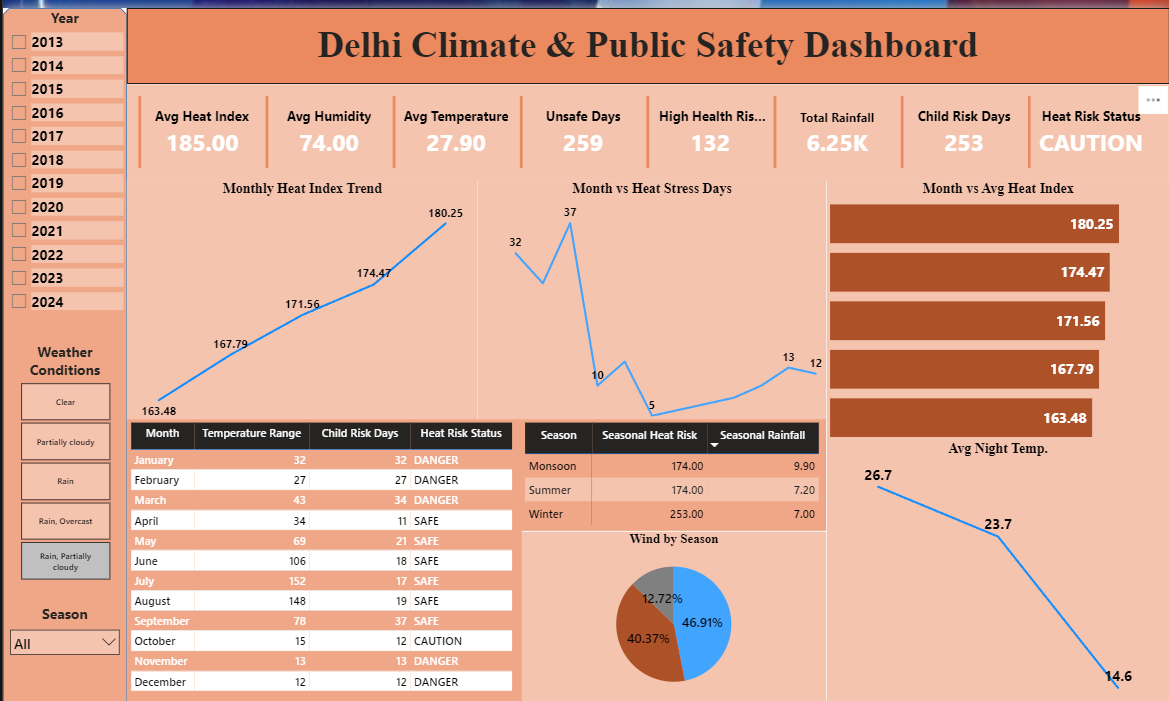

What the dashboard file says about the page in this screenshot:
{"tool":"powerbi","page":{"name":"Page 1","canvas":[1680,1000],"ordinal":0},"visuals":[{"type":"cardVisual","fields":{"Data":["delhi_weather weather.Avg Heat Index","delhi_weather weather.Avg Humidity","delhi_weather weather.Avg Temperature","delhi_weather weather.Unsafe Days","delhi_weather weather.High Health Risk Days","delhi_weather weather.Total Rainfall","delhi_weather weather.Child Risk Days","delhi_weather weather.Heat Risk Status"]},"box":[178.6,109.1,1501.8,138.9],"z":0},{"type":"shape","box":[0,0,178.6,999.9],"z":1000},{"type":"lineChart","title":"Month vs Heat Stress Days","fields":{"Y":["delhi_weather weather.Heat Stress Days"],"Category":["delhi_weather weather.month"]},"box":[684.5,248,501.9,345.2],"z":2000},{"type":"barChart","title":"Month vs Avg Heat Index","fields":{"Category":["delhi_weather weather.month"],"Y":["delhi_weather weather.Monthly Heat Index"]},"box":[1186.4,248,494,375],"z":3000},{"type":"slicer","title":"Year","fields":{"Values":["delhi_weather weather.year"]},"box":[0,0,178.6,448.4],"z":4000},{"type":"lineChart","title":"Monthly Heat Index Trend","fields":{"Y":["delhi_weather weather.Monthly Heat Index"],"Category":["delhi_weather weather.DATE.Variation.Date Hierarchy.Month"]},"box":[178.6,248,505.9,345.2],"z":5000},{"type":"tableEx","fields":{"Values":["delhi_weather weather.DATE.Variation.Date Hierarchy.Month","CountNonNull(delhi_weather weather.temperature_range)","delhi_weather weather.Child Risk Days","delhi_weather weather.Heat Risk Status"]},"box":[178.6,593.2,569.4,406.7],"z":6000},{"type":"textbox","box":[178.6,0,1501.8,109.1],"z":7000},{"type":"slicer","title":"Weather Conditions","fields":{"Values":["delhi_weather weather.weather_conditions"]},"box":[0,480.9,178.3,349.4],"z":8000},{"type":"lineChart","title":"Avg Night Temp.","fields":{"Y":["delhi_weather weather.Avg Night Temp"],"Category":["delhi_weather weather.Season"]},"box":[1186.4,623,494,376.9],"z":9000},{"type":"pieChart","title":"Wind by Season","fields":{"Y":["Sum(delhi_weather weather.wind_speed)"],"Category":["delhi_weather weather.Season"]},"box":[747.9,753.9,438.5,246],"z":10000},{"type":"slicer","title":"Season","fields":{"Values":["delhi_weather weather.Season"]},"box":[0,859.1,178.3,106.3],"z":11000},{"type":"pivotTable","fields":{"Rows":["delhi_weather weather.Season"],"Values":["delhi_weather weather.Avg Seasonal Heat Risk","delhi_weather weather.Avg Seasonal Rainfall"]},"box":[747.9,593.2,438.5,160.7],"z":12000}]}

Visuals, with their boxes in screenshot pixels (x1, y1, x2, y2), scaled from the page's 1680x1000 canvas onto the 1169x701 screenshot:
cardVisual - delhi_weather weather.Avg Heat Index x delhi_weather weather.Avg Humidity: (124, 76, 1168, 174)
shape: (0, 0, 124, 700)
"Month vs Heat Stress Days" lineChart: (476, 174, 826, 416)
"Month vs Avg Heat Index" barChart: (826, 174, 1168, 437)
"Year" slicer: (0, 0, 124, 314)
"Monthly Heat Index Trend" lineChart: (124, 174, 476, 416)
tableEx - delhi_weather weather.DATE.Variation.Date Hierarchy.Month x CountNonNull(delhi_weather weather.temperature_range): (124, 416, 520, 700)
textbox: (124, 0, 1168, 76)
"Weather Conditions" slicer: (0, 337, 124, 582)
"Avg Night Temp." lineChart: (826, 437, 1168, 700)
"Wind by Season" pieChart: (520, 528, 826, 700)
"Season" slicer: (0, 602, 124, 677)
pivotTable - delhi_weather weather.Season x delhi_weather weather.Avg Seasonal Heat Risk: (520, 416, 826, 528)
